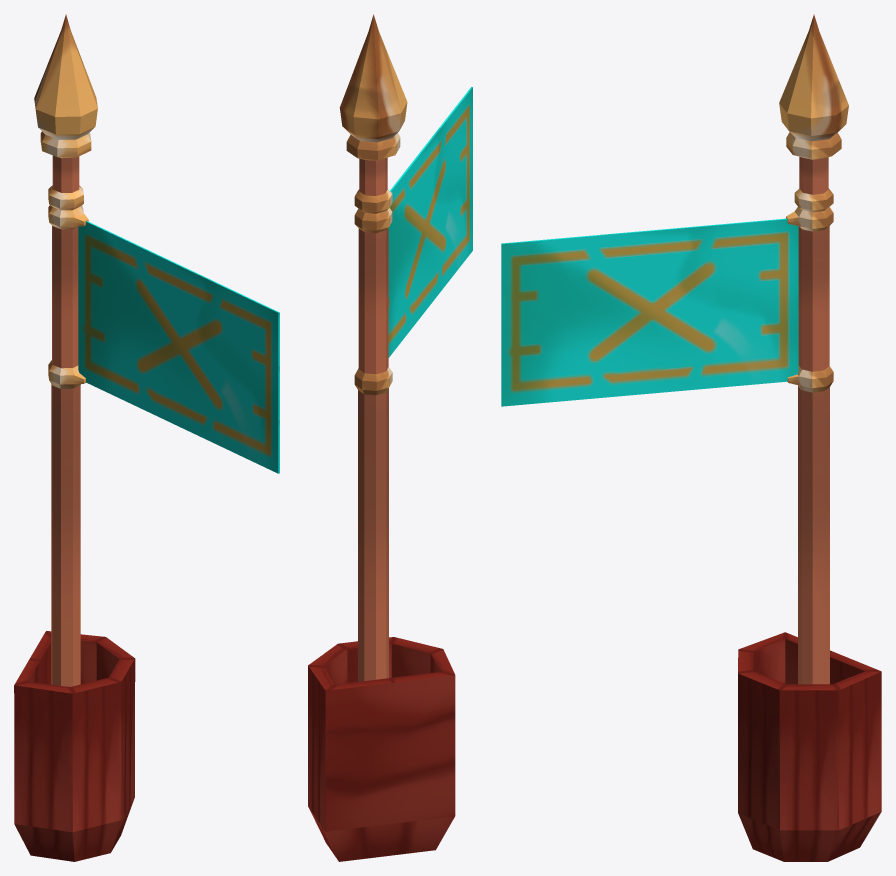
Rendered from CastleFlag@Model.fbx.
3 views of the same model, side by side, from view 1: azimuth 30°, elevation 25°; view 2: azimuth 150°, elevation 25°; view 3: azimuth 270°, elevation 25° (orthographic).
Parts seen in each view (by area): view 1: CastleFlagBody, CastleFlag; view 2: CastleFlagBody, CastleFlag; view 3: CastleFlagBody, CastleFlag.
Boxes of the visible parts, x1=… form: CastleFlagBody: x1=14, y1=14, x2=135, y2=861; CastleFlag: x1=78, y1=221, x2=279, y2=473; CastleFlagBody: x1=308, y1=14, x2=455, y2=861; CastleFlag: x1=388, y1=87, x2=472, y2=357; CastleFlagBody: x1=738, y1=14, x2=881, y2=861; CastleFlag: x1=501, y1=218, x2=798, y2=406.
Bounding box in the file's own units: 65.39 × 410 × 171.
